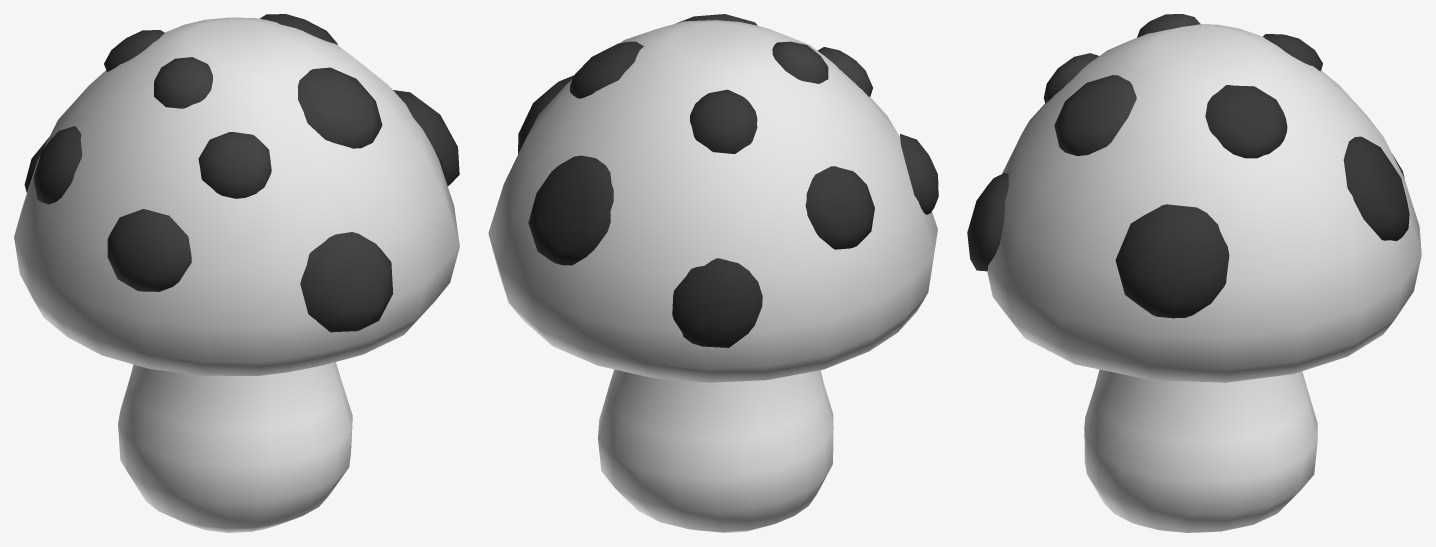
File: mushroom 17.fbx
3 views of the same model, side by side, from view 1: azimuth 30°, elevation 25°; view 2: azimuth 150°, elevation 25°; view 3: azimuth 270°, elevation 25° (orthographic).
Visible parts, largest first — view 1: Mushroom_0001_0017; view 2: Mushroom_0001_0017; view 3: Mushroom_0001_0017.
Part boxes in pixels (x1,y1,x2,y2): Mushroom_0001_0017: (14, 14, 459, 532); Mushroom_0001_0017: (488, 14, 938, 532); Mushroom_0001_0017: (967, 14, 1421, 532).
Size of the model in its own units: 26.82 by 30.13 by 26.98.
Materials: 1 (1 with a texture image).
